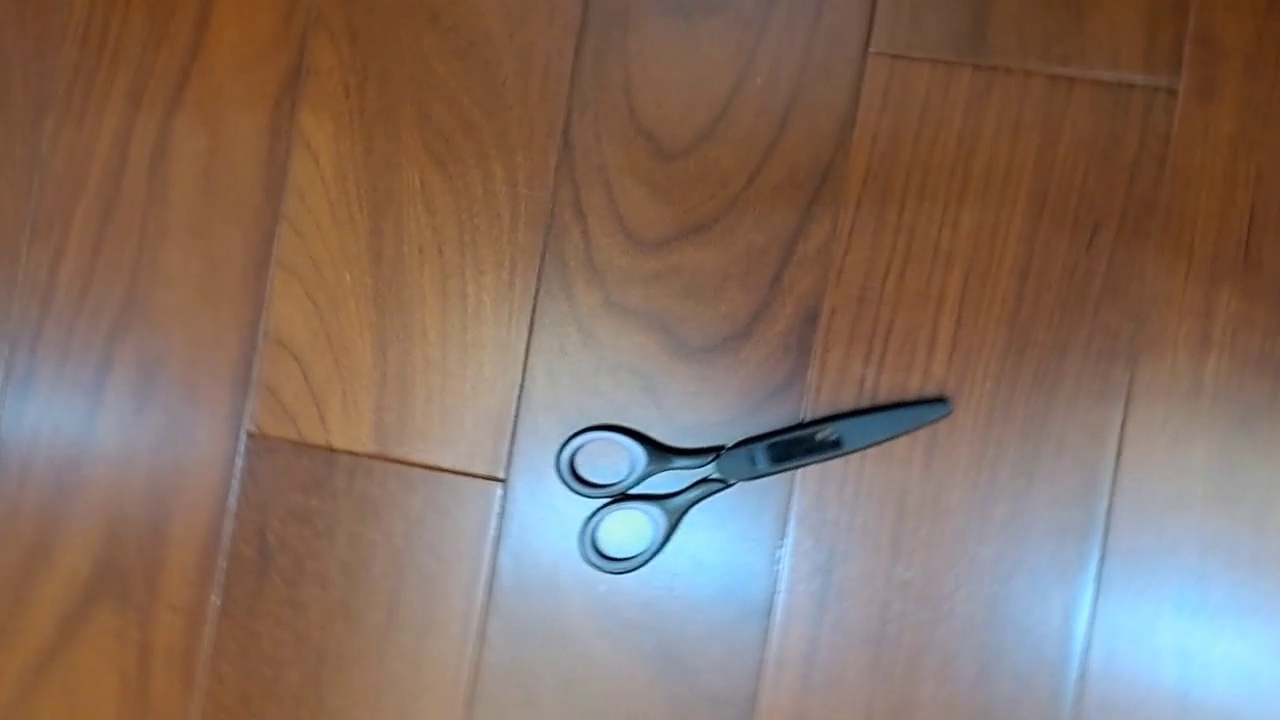scissors: (553, 394, 956, 576)
